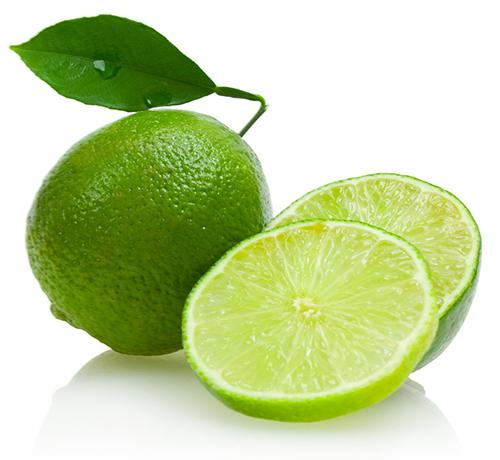lime: (11, 70, 289, 347), (188, 222, 436, 434), (293, 169, 482, 327)
